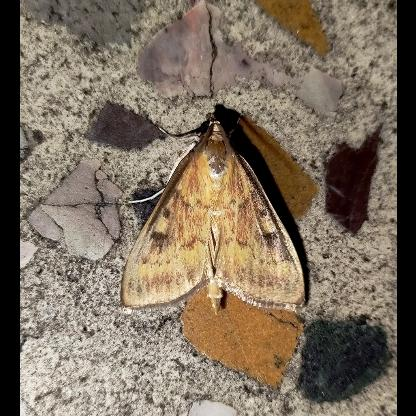Asian Corn Borer Moth: (115, 112, 311, 320)
